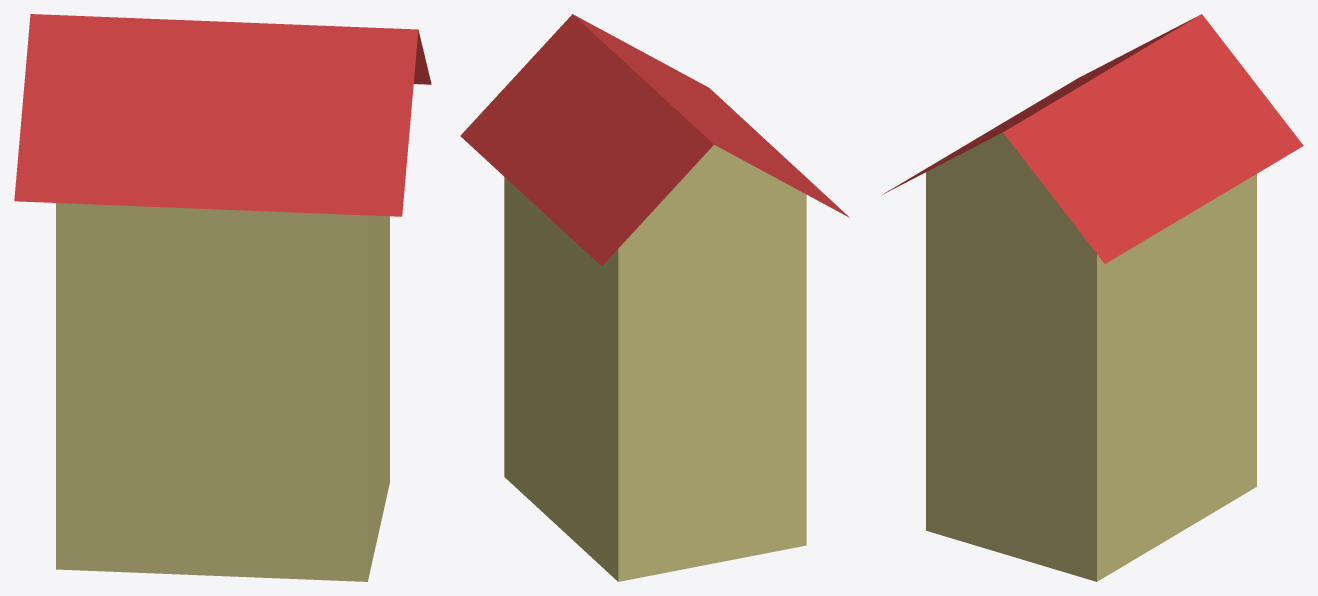
The picture shows the model from 3 angles, left to right: view 1: azimuth 30°, elevation 25°; view 2: azimuth 150°, elevation 25°; view 3: azimuth 270°, elevation 25°; orthographic projection. The views are drawn at different scales.
Bounding box in the file's own units: 6.54 × 6.3 × 7.19.
